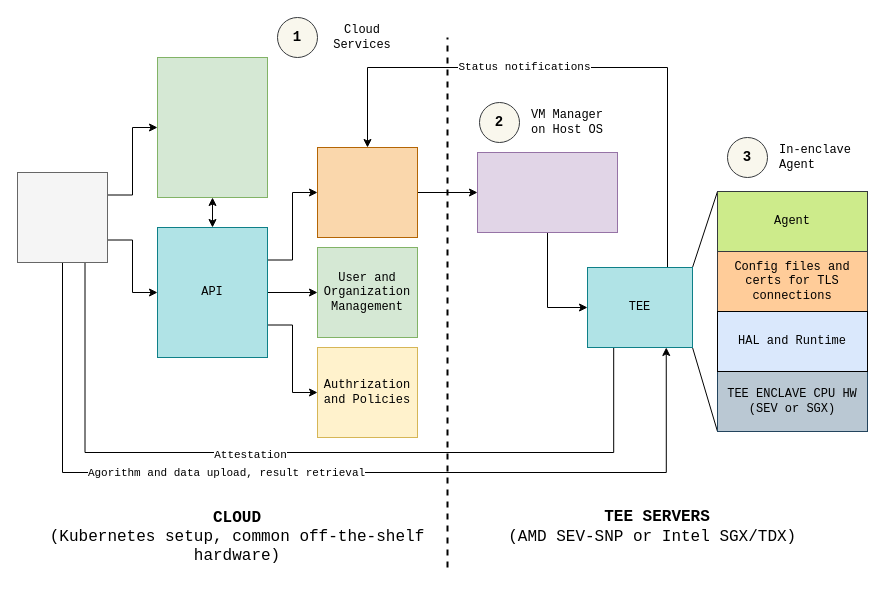
Some shapes in this 885 by 595 pixel diagram are drawn without their labels. Here are the shapes that lost their labels. From the top down, the box of each, then its label:
(156, 56, 268, 198): UI
(316, 146, 418, 238): Computation Management
(476, 152, 618, 232): Manager (TEE provisioning and configuration)
(16, 172, 108, 262): Client
